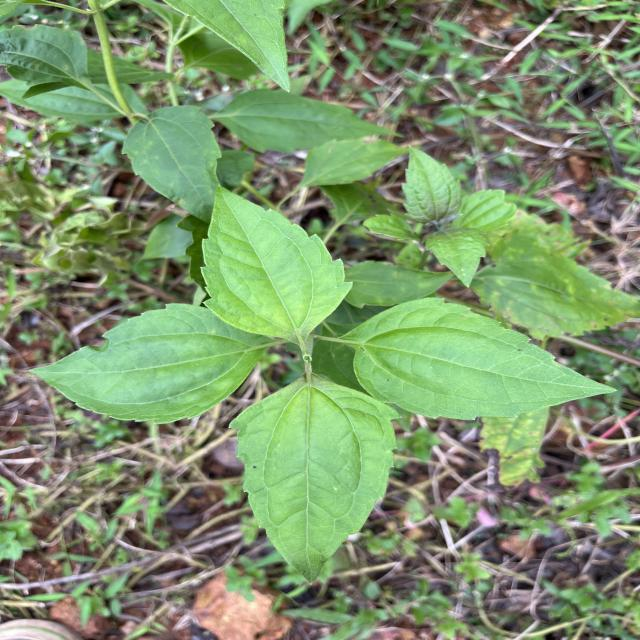Chromolaena odorata: (225, 367, 406, 589), (334, 294, 622, 424), (24, 300, 280, 428), (194, 180, 358, 350)
